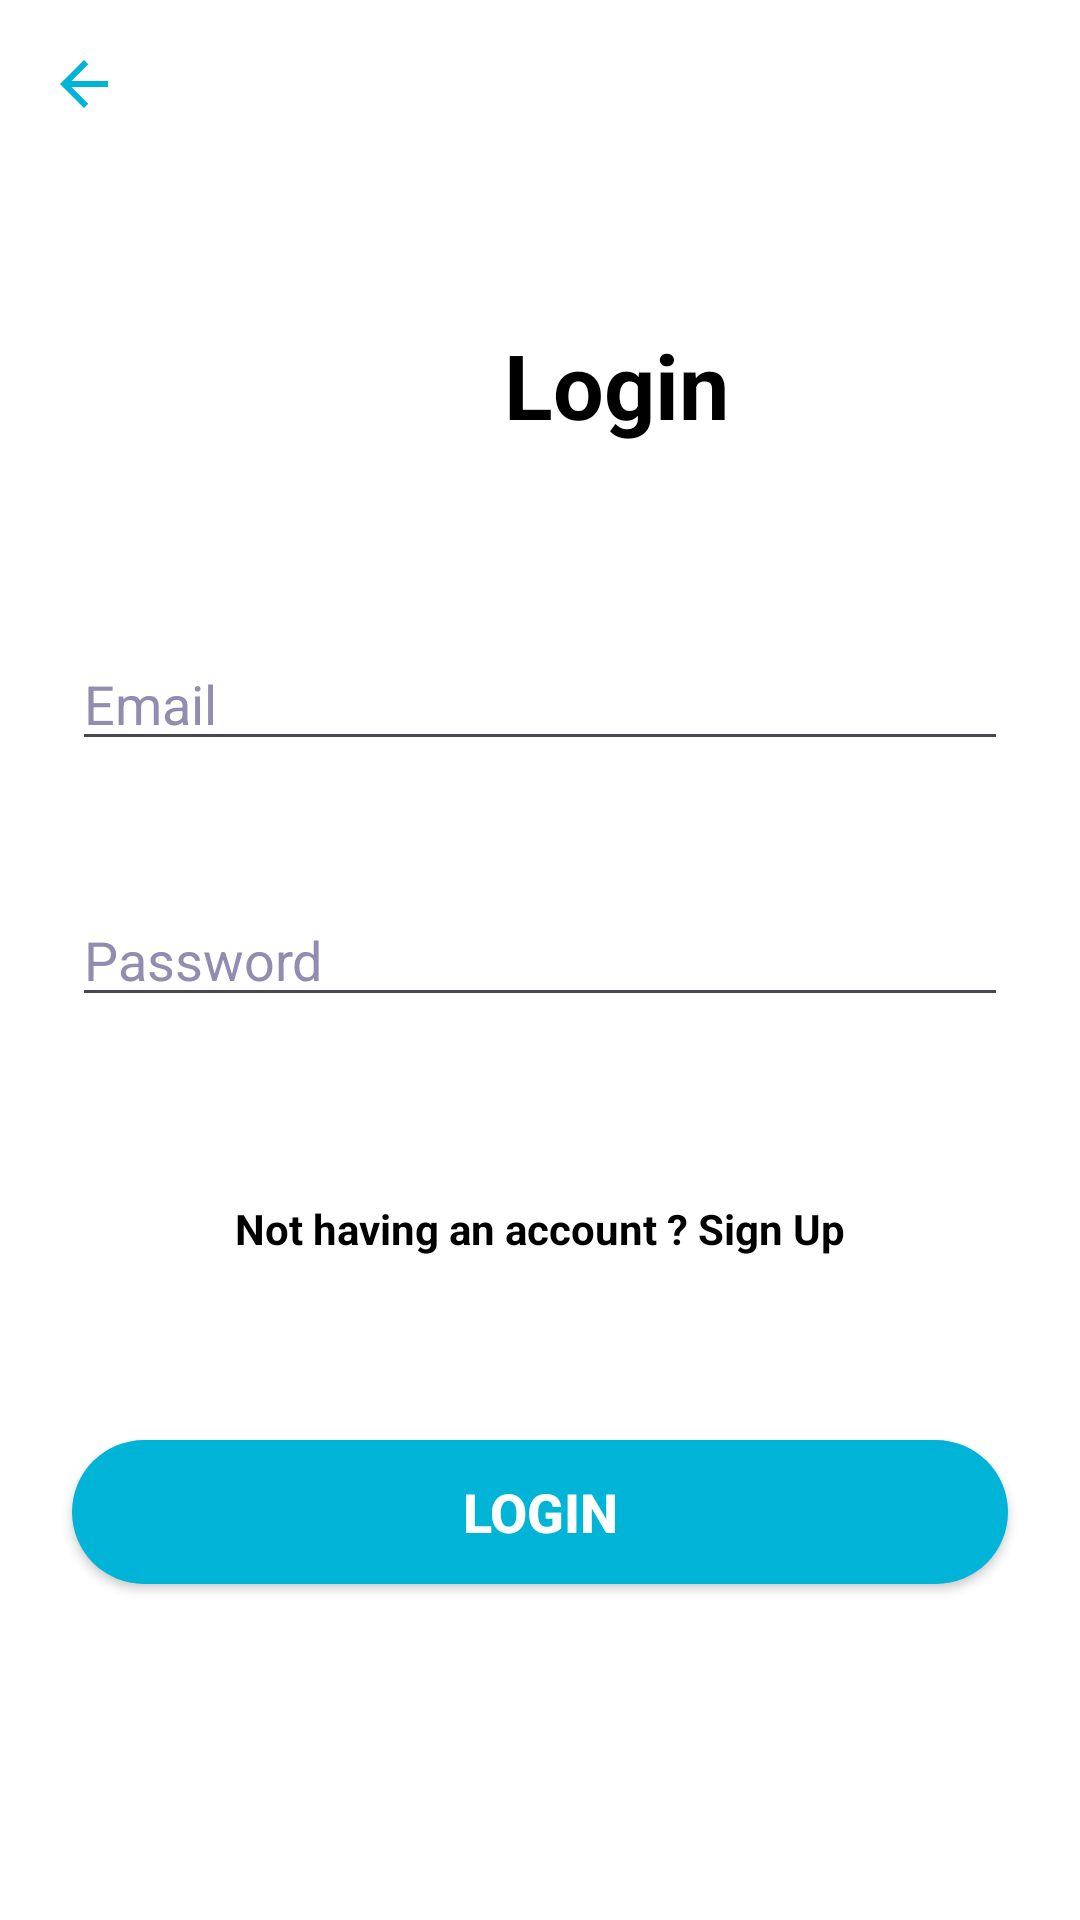

Point at icon controls on the screen. Image size 1080 × 1920, points as point (x, y).
arrow: point (84, 84)
